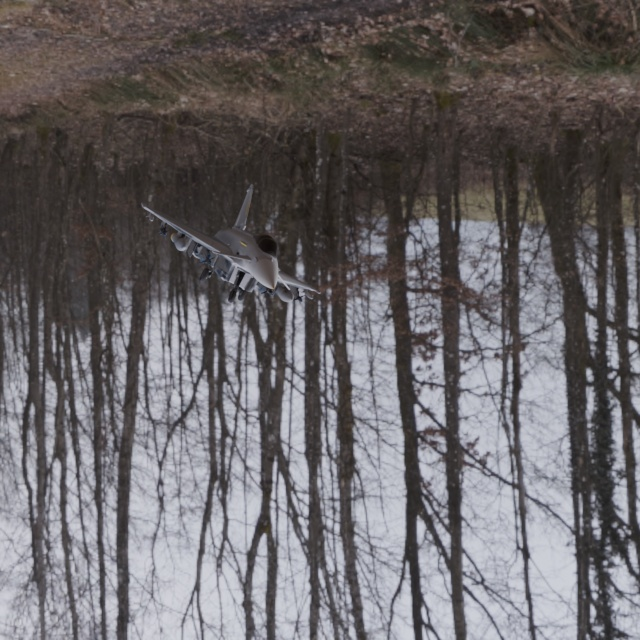eurofighter_typhoon_3d: (121, 141, 426, 383)
